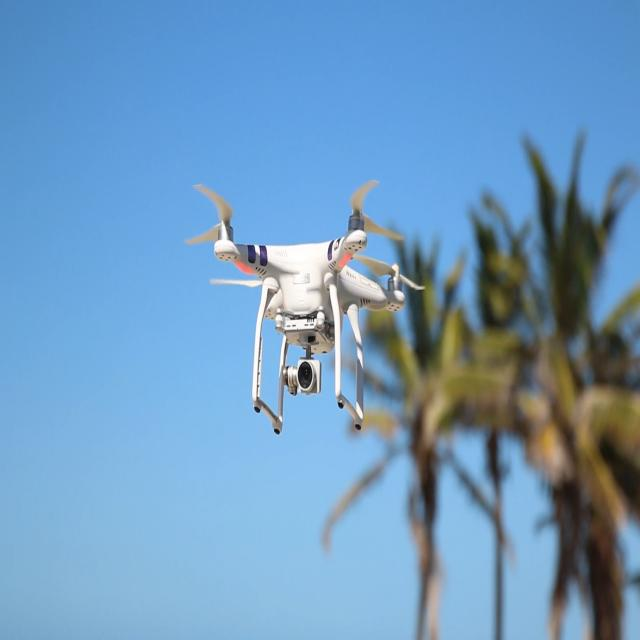Drone: (146, 172, 444, 442)
